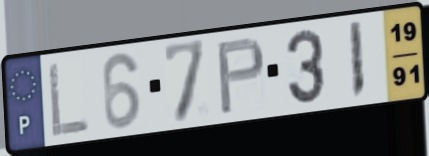3: (284, 27, 327, 106)
6: (99, 49, 146, 132)
7: (162, 37, 209, 127)
I: (347, 18, 368, 102)
L: (46, 59, 92, 140)
P: (214, 35, 268, 118)
